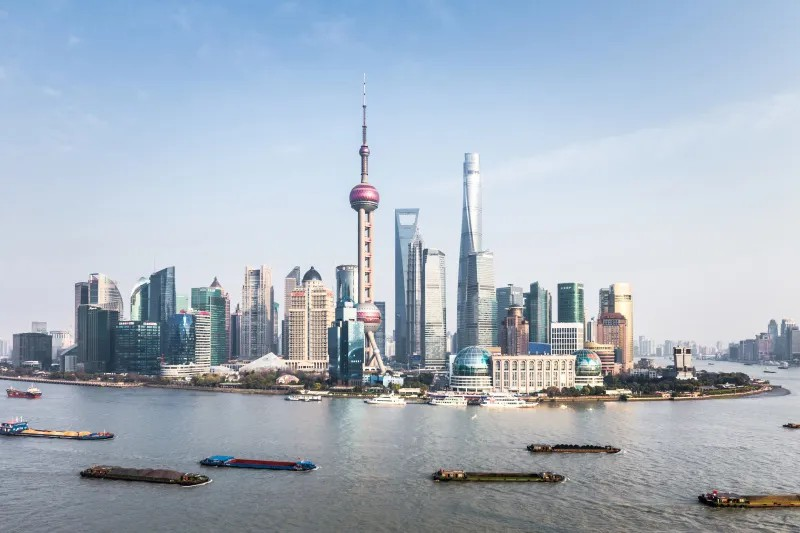Oriental: (349, 73, 385, 372)
